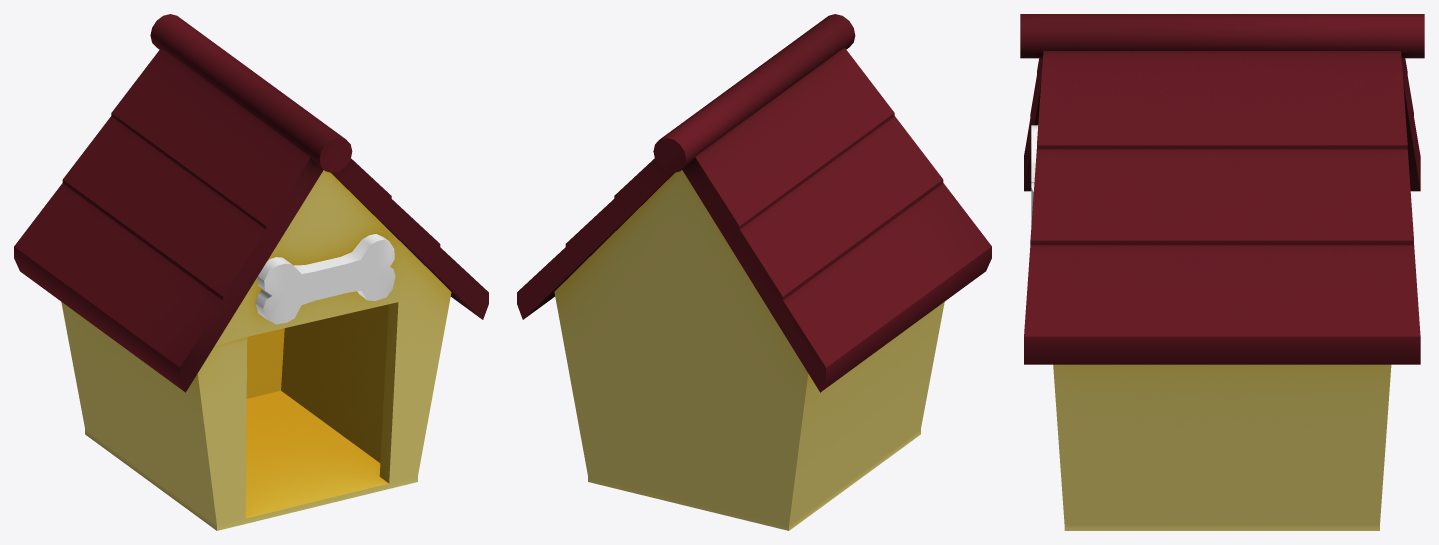
File: HouseDog.fbx
The picture shows the model from 3 angles, left to right: view 1: azimuth 30°, elevation 25°; view 2: azimuth 150°, elevation 25°; view 3: azimuth 270°, elevation 25°; orthographic projection. The views are drawn at different scales.
Visible parts, largest first — view 1: pCube1, pCube2, pCylinder1, pCube3; view 2: pCube1, pCube2, pCylinder1; view 3: pCube2, pCube1, pCylinder1.
Part boxes in pixels (x1,y1,x2,y2): pCube1: [61, 170, 451, 530]; pCube2: [14, 47, 488, 392]; pCylinder1: [150, 14, 352, 172]; pCube3: [255, 234, 395, 324]; pCube1: [554, 170, 944, 530]; pCube2: [517, 47, 991, 392]; pCylinder1: [653, 14, 855, 172]; pCube2: [1024, 51, 1420, 364]; pCube1: [1053, 364, 1391, 530]; pCylinder1: [1020, 14, 1424, 58].
Size of the model in its own units: 12.92 by 15.23 by 12.24.
